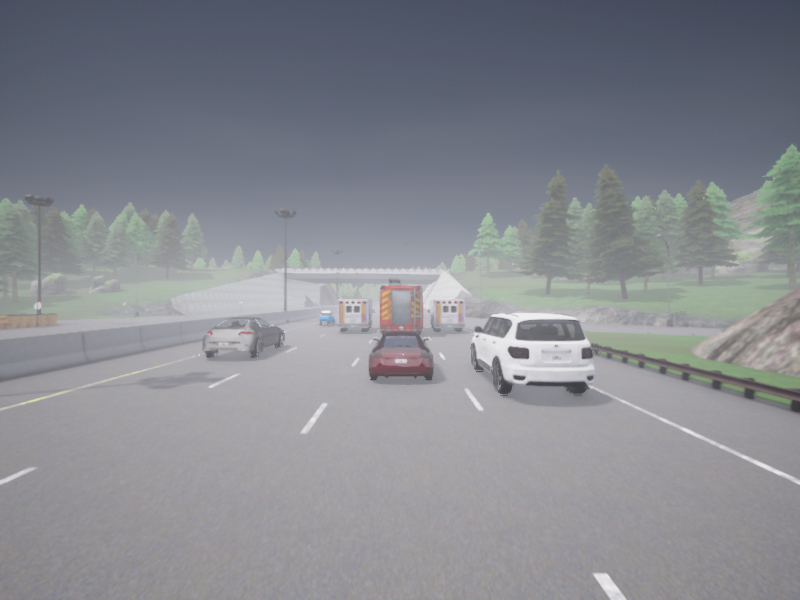vehicle: (471, 313, 594, 394), (202, 317, 283, 357), (368, 331, 433, 379), (379, 278, 422, 334), (427, 299, 465, 330), (337, 299, 374, 330), (319, 311, 334, 325)
